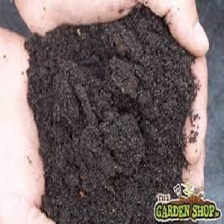loamy_soil: (31, 19, 198, 212)
